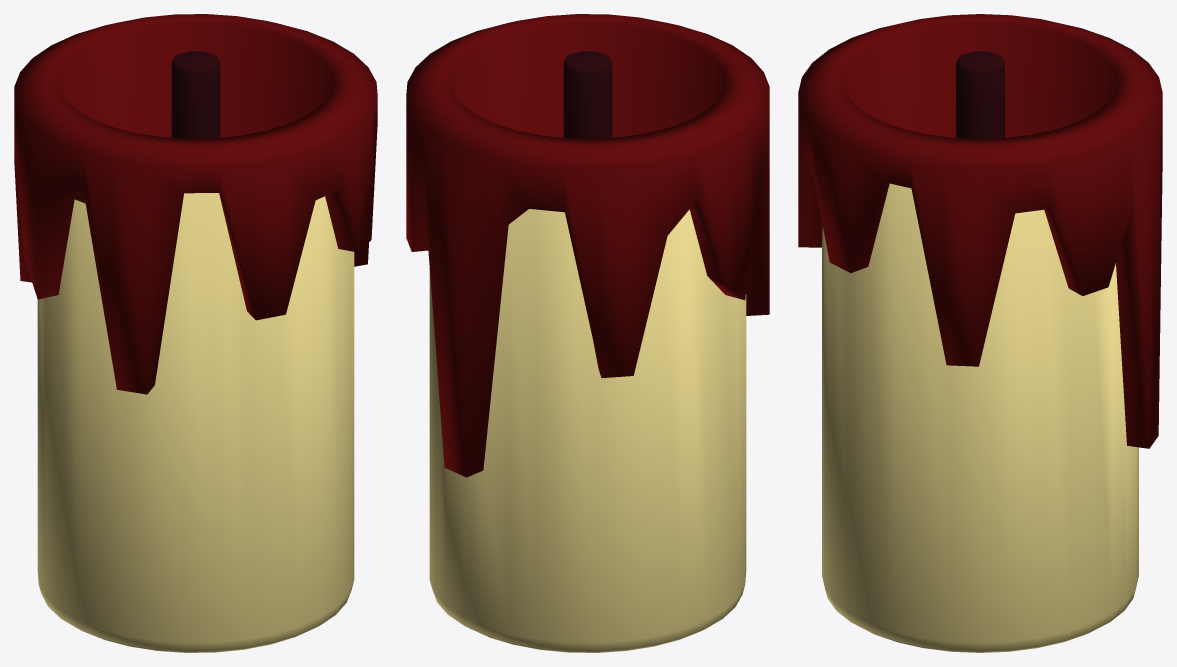
Rendered from candle.glb.
3 renders of one model, left to right at view 1: azimuth 30°, elevation 25°; view 2: azimuth 150°, elevation 25°; view 3: azimuth 270°, elevation 25°, orthographic.
Visible parts, largest first — view 1: Candle Stick, Candle Melt, Wick; view 2: Candle Stick, Candle Melt, Wick; view 3: Candle Stick, Candle Melt, Wick.
Boxes of the visible parts, x1,y1,x2,y2 form: Candle Stick: (37, 193, 354, 652); Candle Melt: (14, 14, 377, 394); Wick: (171, 51, 220, 138); Candle Stick: (429, 209, 746, 652); Candle Melt: (406, 14, 769, 477); Wick: (563, 51, 612, 138); Candle Stick: (822, 183, 1138, 652); Candle Melt: (798, 14, 1162, 448); Wick: (956, 51, 1004, 138).
Bounding box in the file's own units: 2.3 × 3.69 × 2.3.
